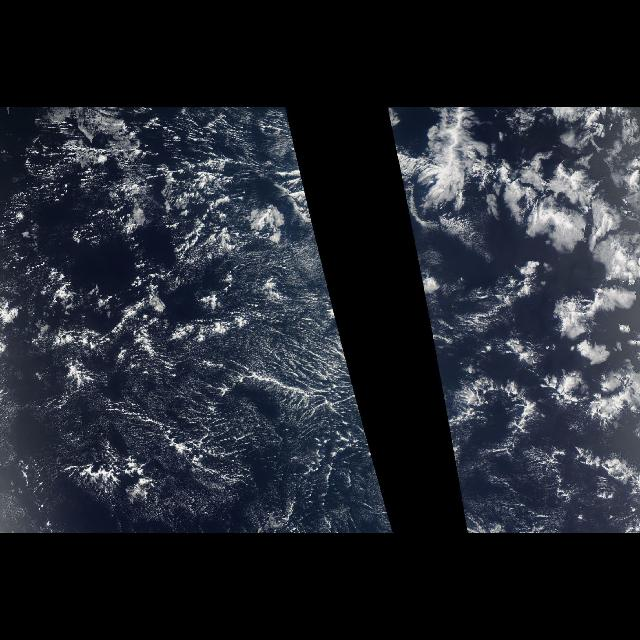Flower: (412, 108, 640, 432)
Sugar: (120, 245, 392, 533)
